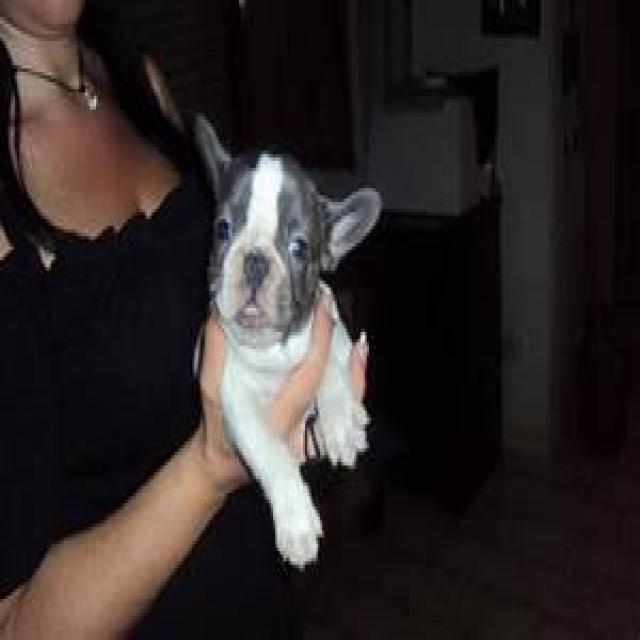dog: (0, 116, 382, 640)
